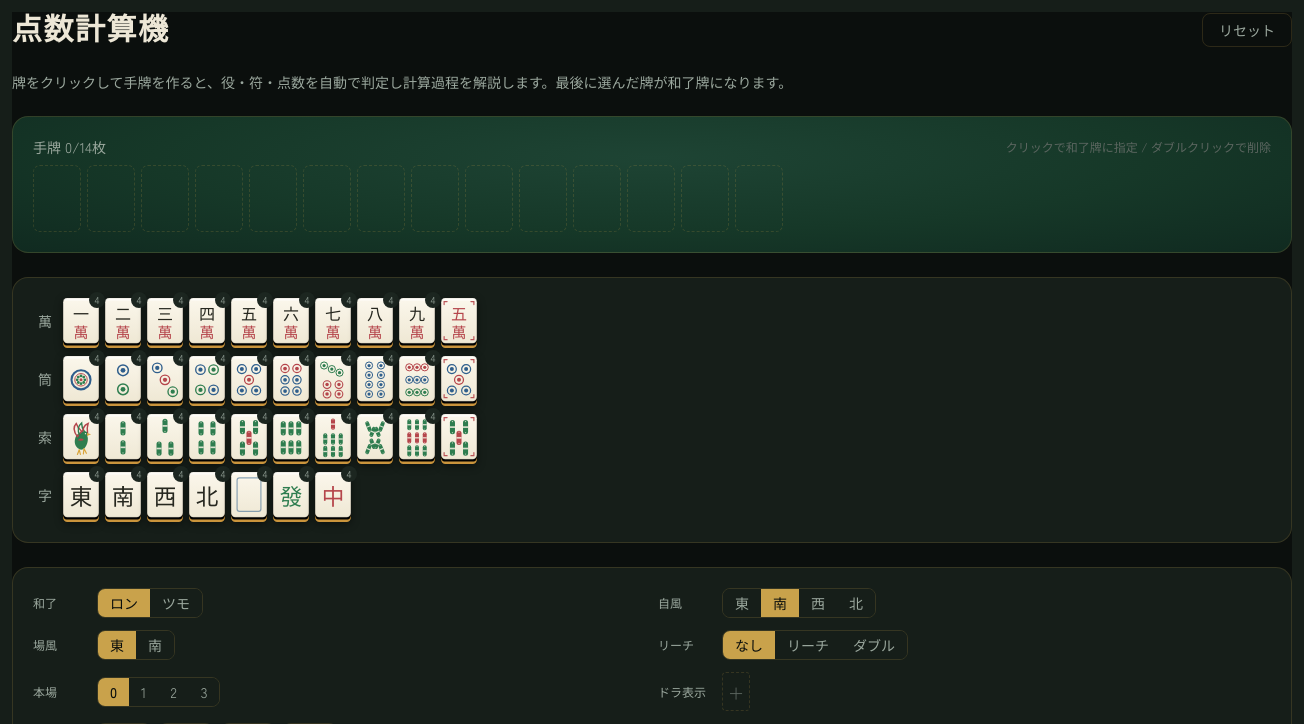
CalculatorPage › 同じ牌を4枚使うとピッカーで選べなくなる
The width and height of the screenshot is (1304, 724).
What coordinates should you click on to do the following:
click the button "東 4"
I would click on:
 (81, 497)
Its box is [63,472,99,522].
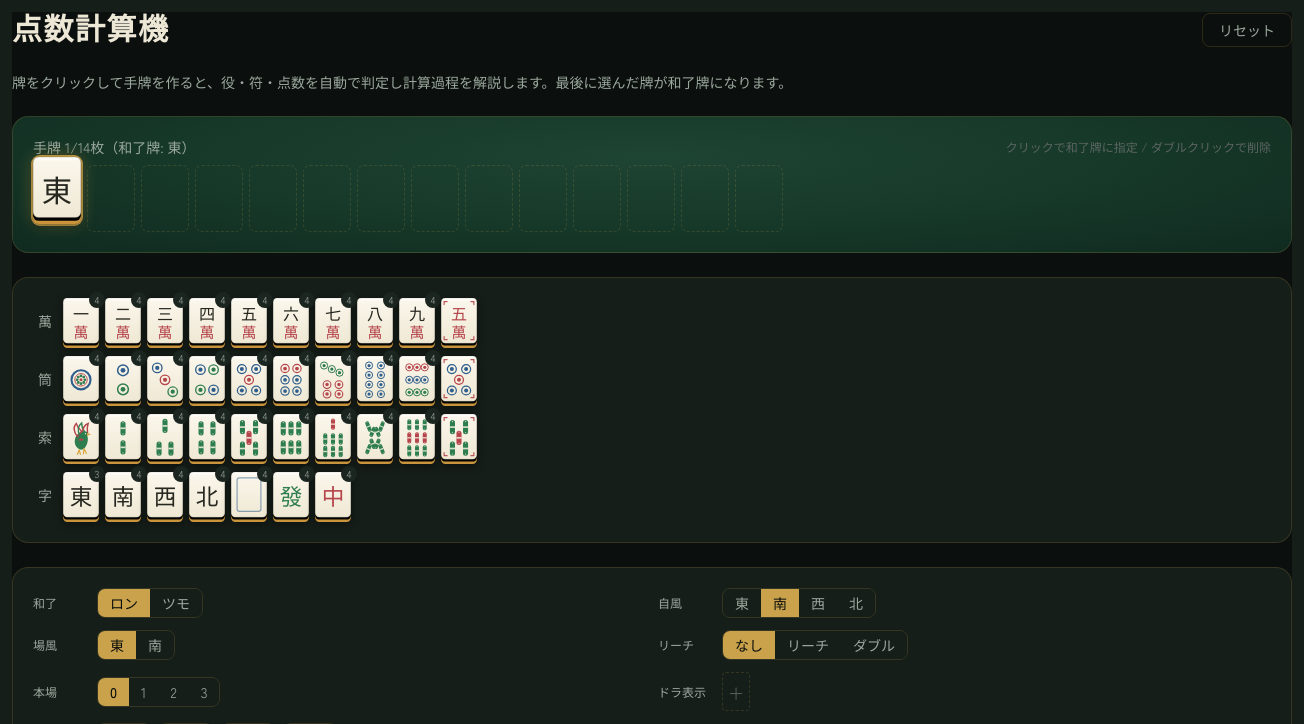
What coordinates should you click on to do the following:
click the button "東 3"
I would click on:
 (81, 497)
Its box is [63,472,99,522].
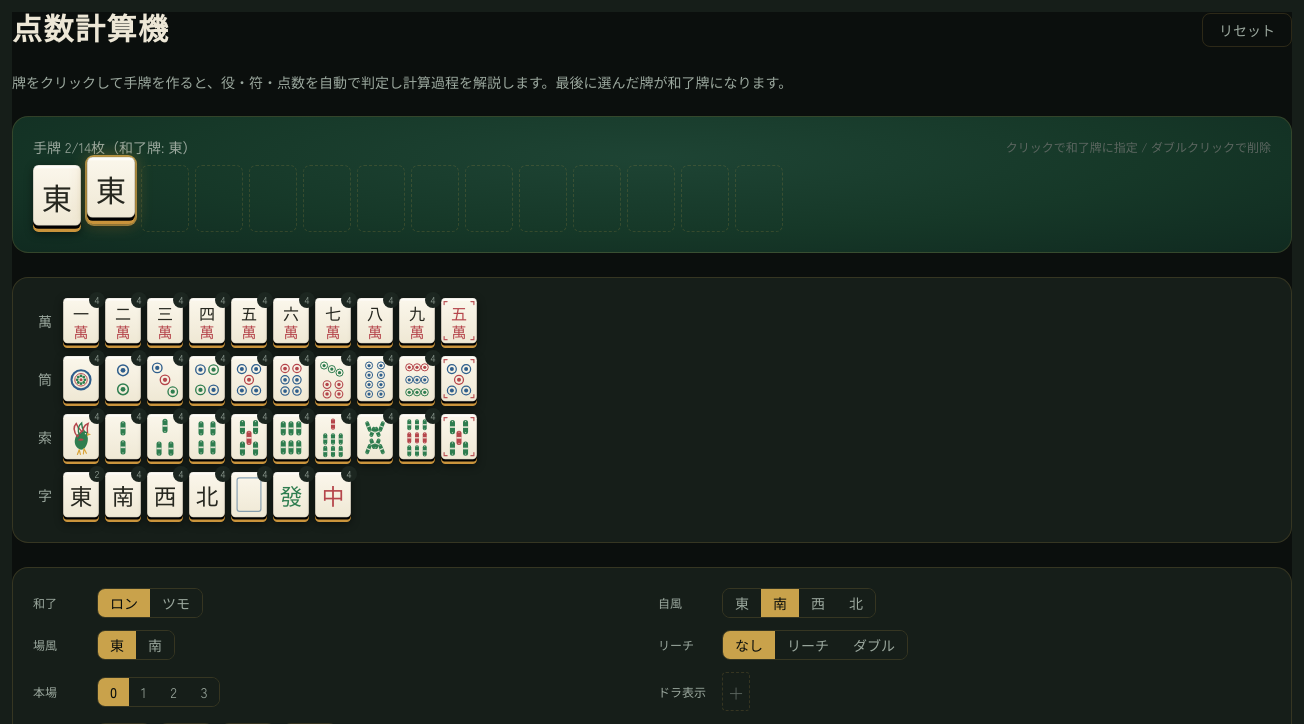
What coordinates should you click on to do the following:
click the button "東 2"
I would click on:
 (81, 497)
Its box is [63,472,99,522].
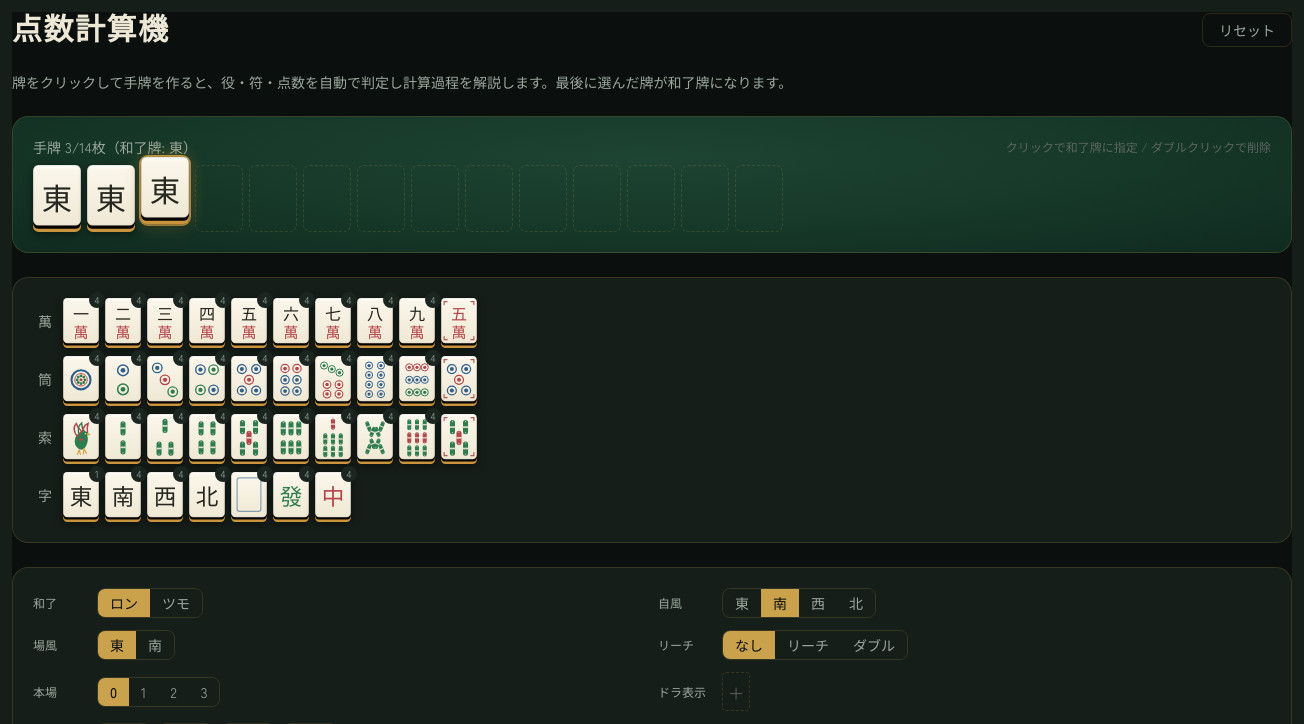
What coordinates should you click on to do the following:
click the button "東 1"
I would click on:
 (81, 497)
Its box is [63,472,99,522].
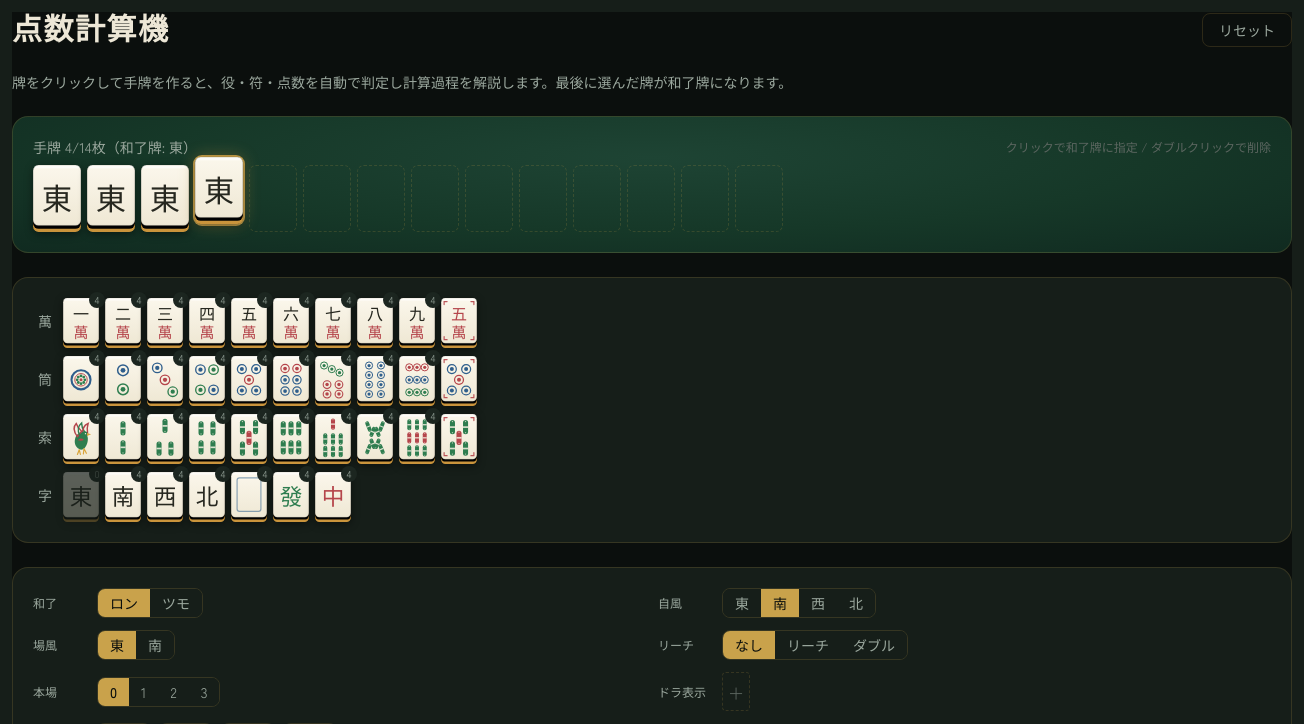
Expected: the text "手牌 4/14枚（和了牌: 東）" is shown, [33,137,197,157]
Expected: the button "東 0" is disabled, [63,472,99,522]
